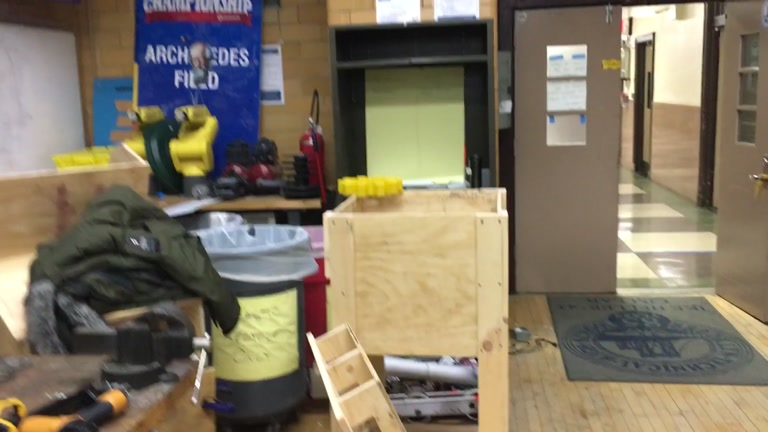gear: (337, 174, 403, 198)
